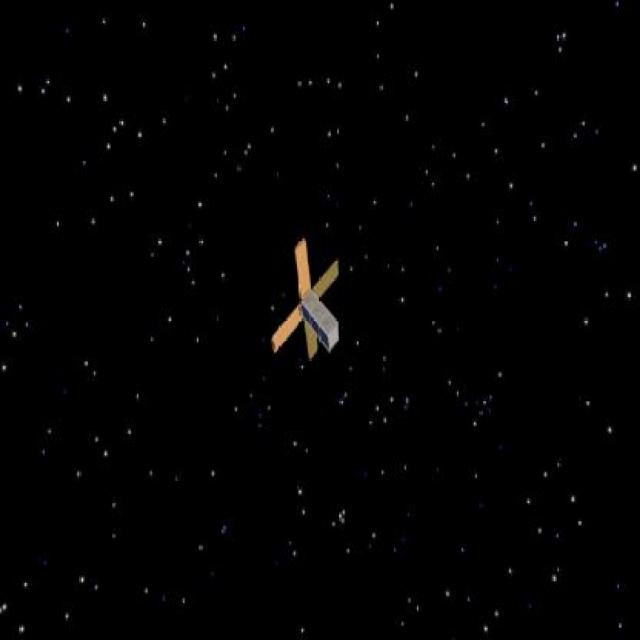satellite: (265, 227, 348, 375)
